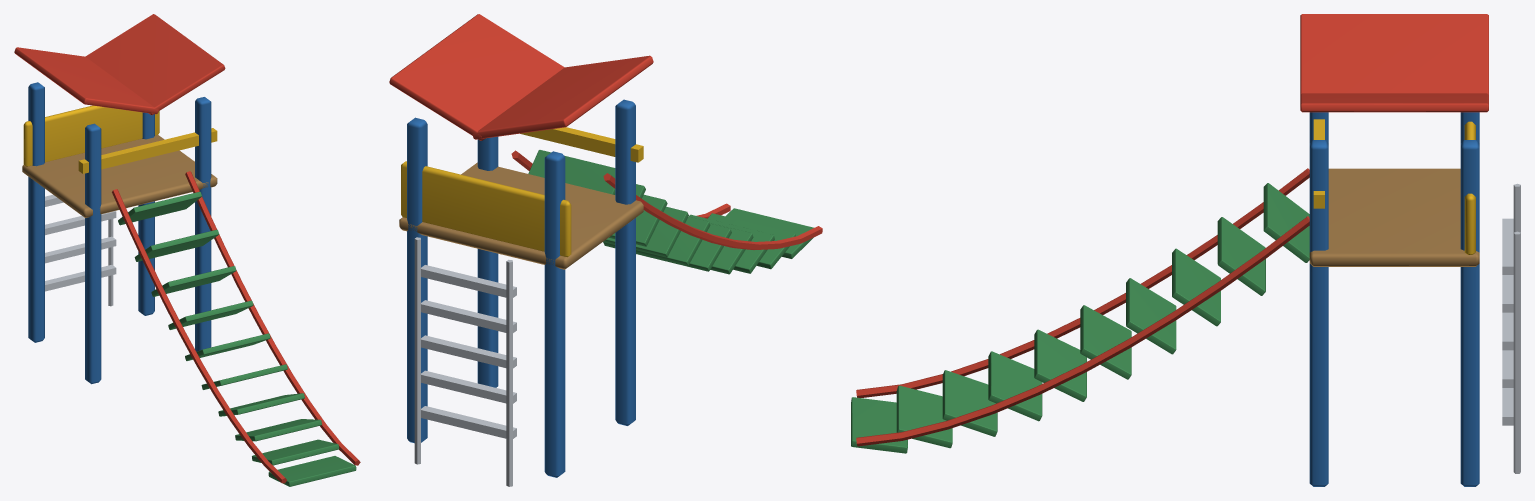
File: playground_slide.glb
The picture shows the model from 3 angles, left to right: view 1: azimuth 30°, elevation 25°; view 2: azimuth 150°, elevation 25°; view 3: azimuth 270°, elevation 25°; orthographic projection. The views are drawn at different scales.
Parts seen in each view (by area): view 1: playground_slide; view 2: playground_slide; view 3: playground_slide.
Boxes of the visible parts, x1,y1,x2,y2 form: playground_slide: [14, 14, 360, 486]; playground_slide: [389, 14, 822, 486]; playground_slide: [851, 14, 1520, 486].
Size of the model in its own units: 1.16 by 2.28 by 3.55.
